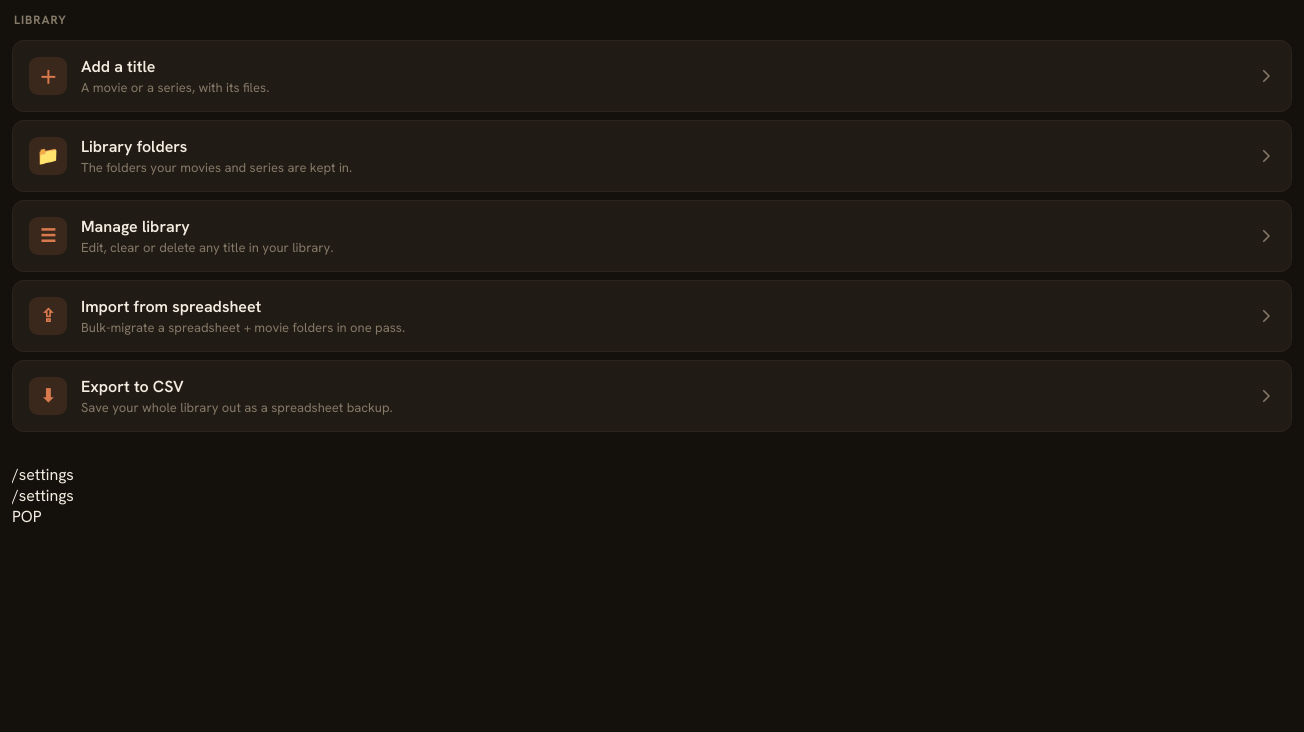
Test case: LibrarySection › pushes the Manage library page from Manage library
Click the button "Manage library" at (48, 236), box [12,200,1292,272]
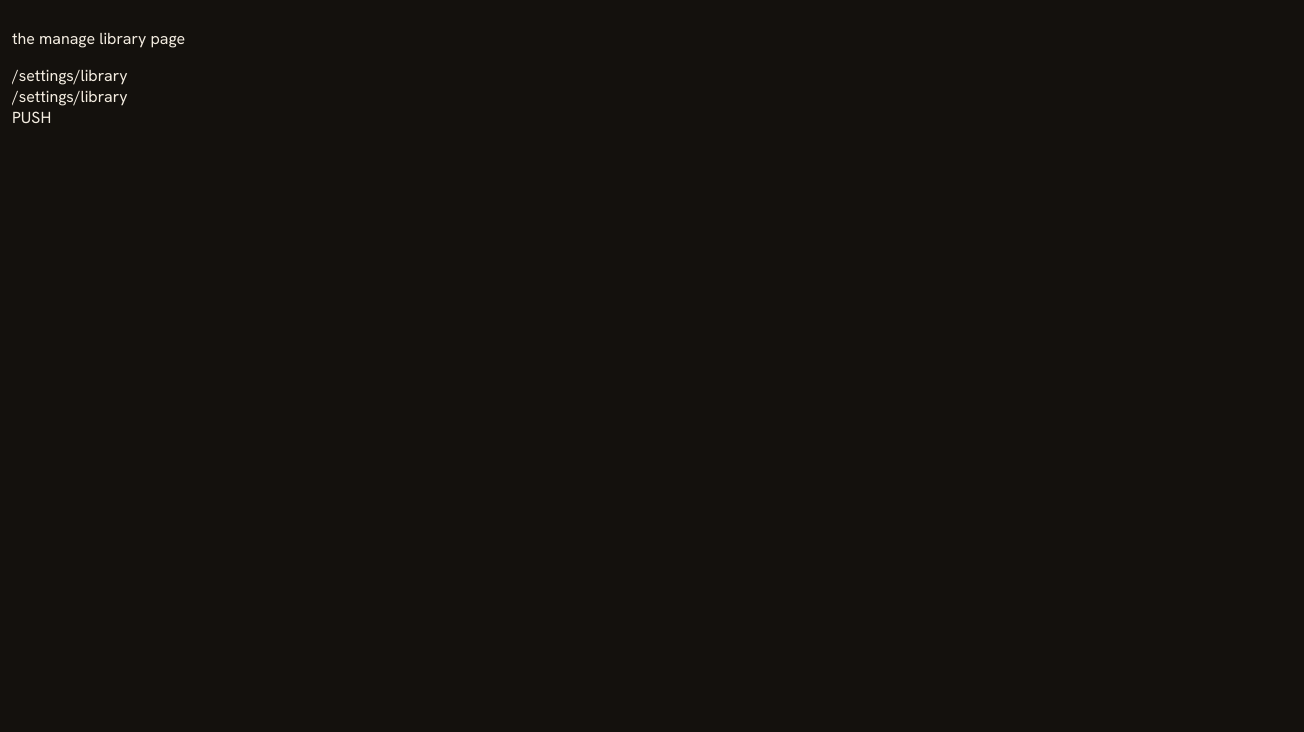
expect the text with test id "pathname" reads "/settings/library": met, box [12,65,128,86]
expect the text "the manage library page" is shown: met, box [12,28,185,49]
